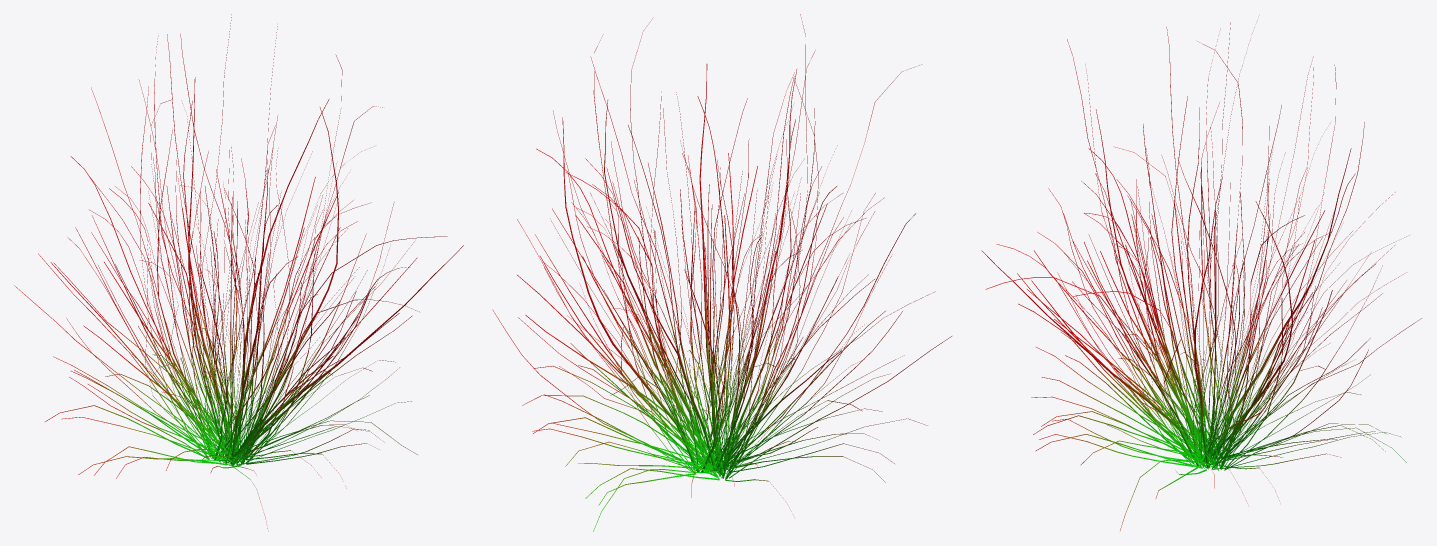
Rendered from Xeric Grass_LOD1_Var4_xjfgdhaqx.fbx.
3 renders of one model, left to right at view 1: azimuth 30°, elevation 25°; view 2: azimuth 150°, elevation 25°; view 3: azimuth 270°, elevation 25°, orthographic. The views are drawn at different scales.
Visible parts, largest first — view 1: _ky2i_Var4_LOD1; view 2: _ky2i_Var4_LOD1; view 3: _ky2i_Var4_LOD1.
Boxes of the visible parts, x1,y1,x2,y2 form: _ky2i_Var4_LOD1: (14,14,463,531); _ky2i_Var4_LOD1: (492,14,951,531); _ky2i_Var4_LOD1: (981,22,1421,530).
Bounding box in the file's own units: 175 × 183 × 182.
